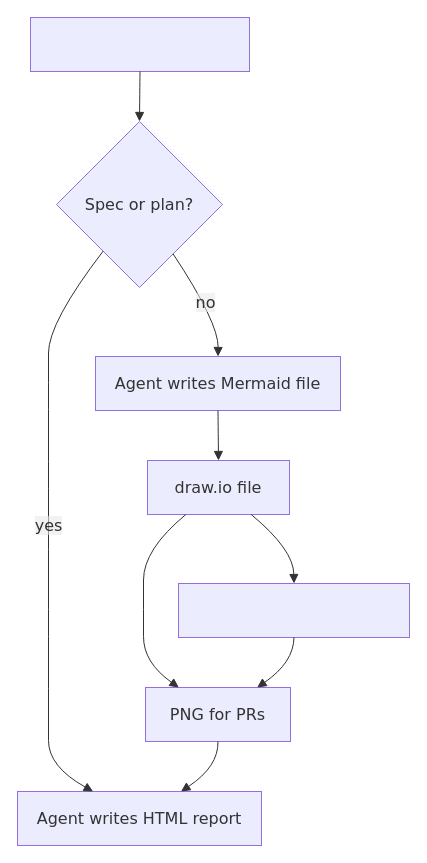
This 427x863 diagram has some shape labels left out. Each missing label, with the box of its shape:
You change it in draw.io: (178, 582, 410, 638)
You request a diagram: (30, 16, 250, 72)
